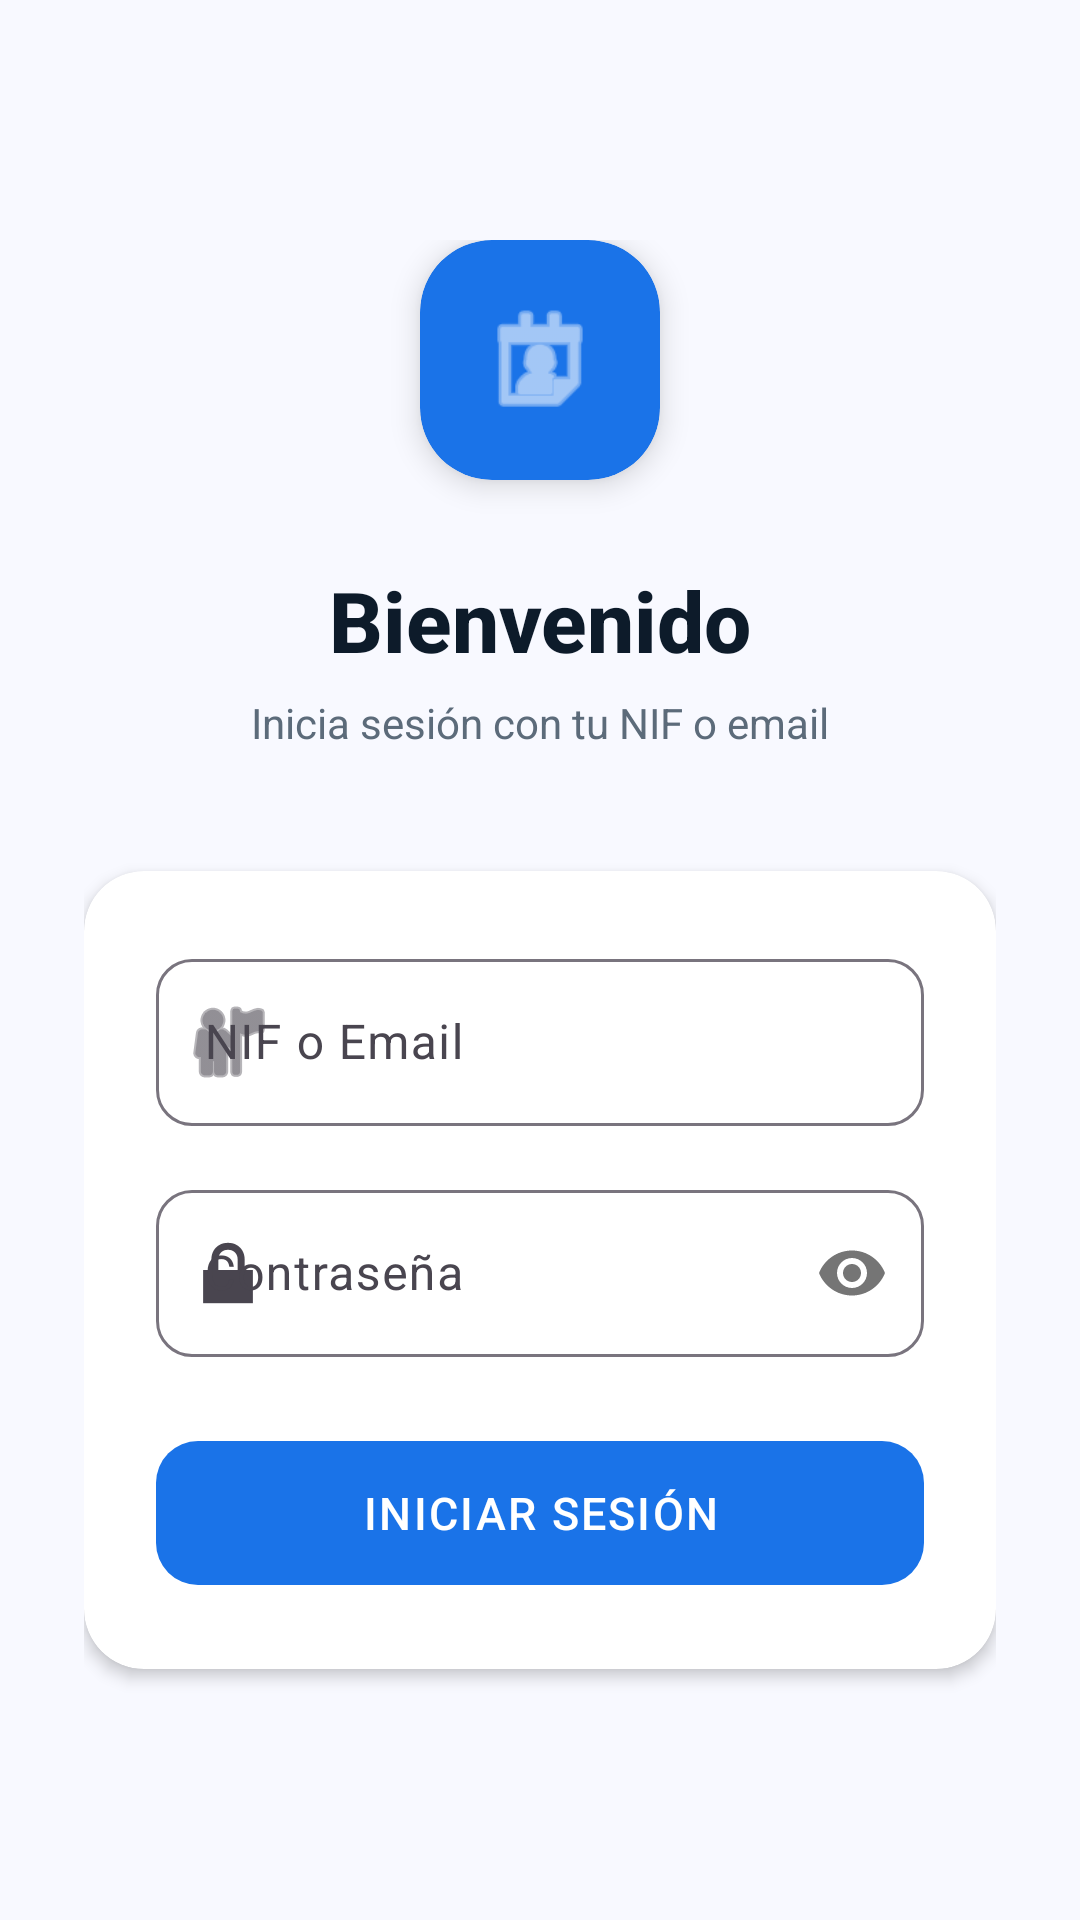

Icon click points for this 1080x1920 phone screenshot, format [x,y]:
calendar: [540,358]
